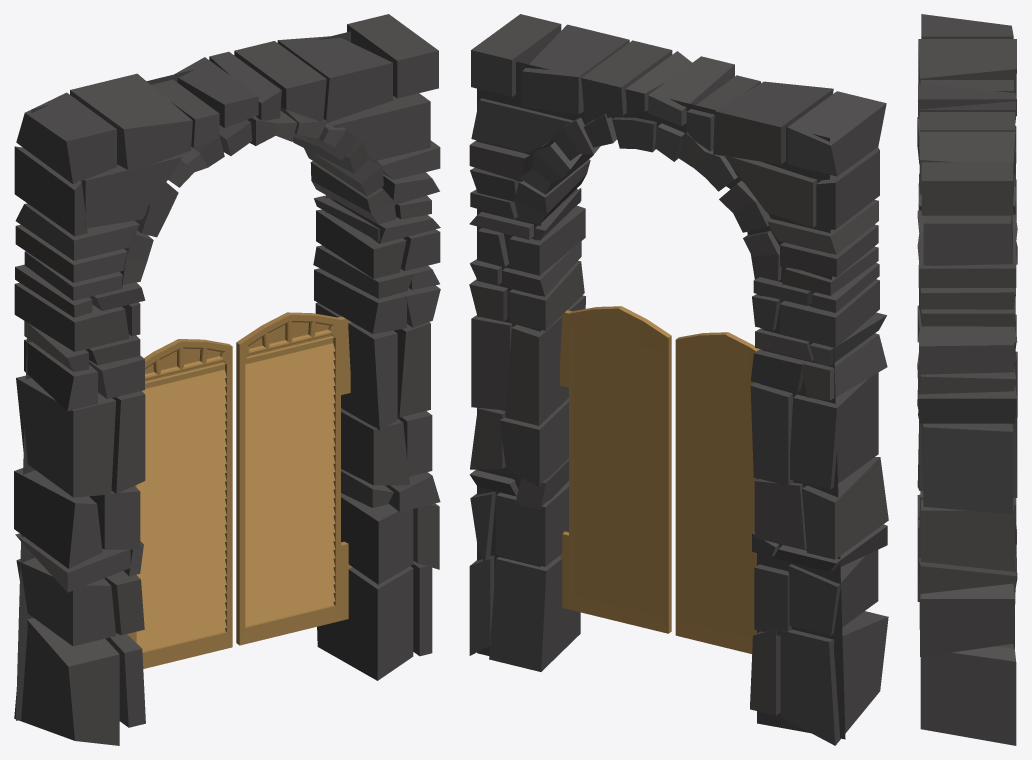
The model's file is ExitWithArch.fbx.
3 views of the same model, side by side, from view 1: azimuth 30°, elevation 25°; view 2: azimuth 150°, elevation 25°; view 3: azimuth 270°, elevation 25° (orthographic). The views are drawn at different scales.
Parts seen in each view (by area): view 1: Wall, Plane.001, Plane, Plane.002; view 2: Wall, Plane, Plane.002; view 3: Wall.
Boxes of the visible parts, x1,y1,x2,y2 form: Wall: (14,14,440,745); Plane.001: (136,343,335,651); Plane: (127,312,351,668); Plane.002: (16,31,350,720); Wall: (469,14,888,745); Plane: (559,306,759,653); Plane.002: (477,61,845,739); Wall: (917,14,1017,745).
Size of the model in its own units: 834 by 1306 by 210.
